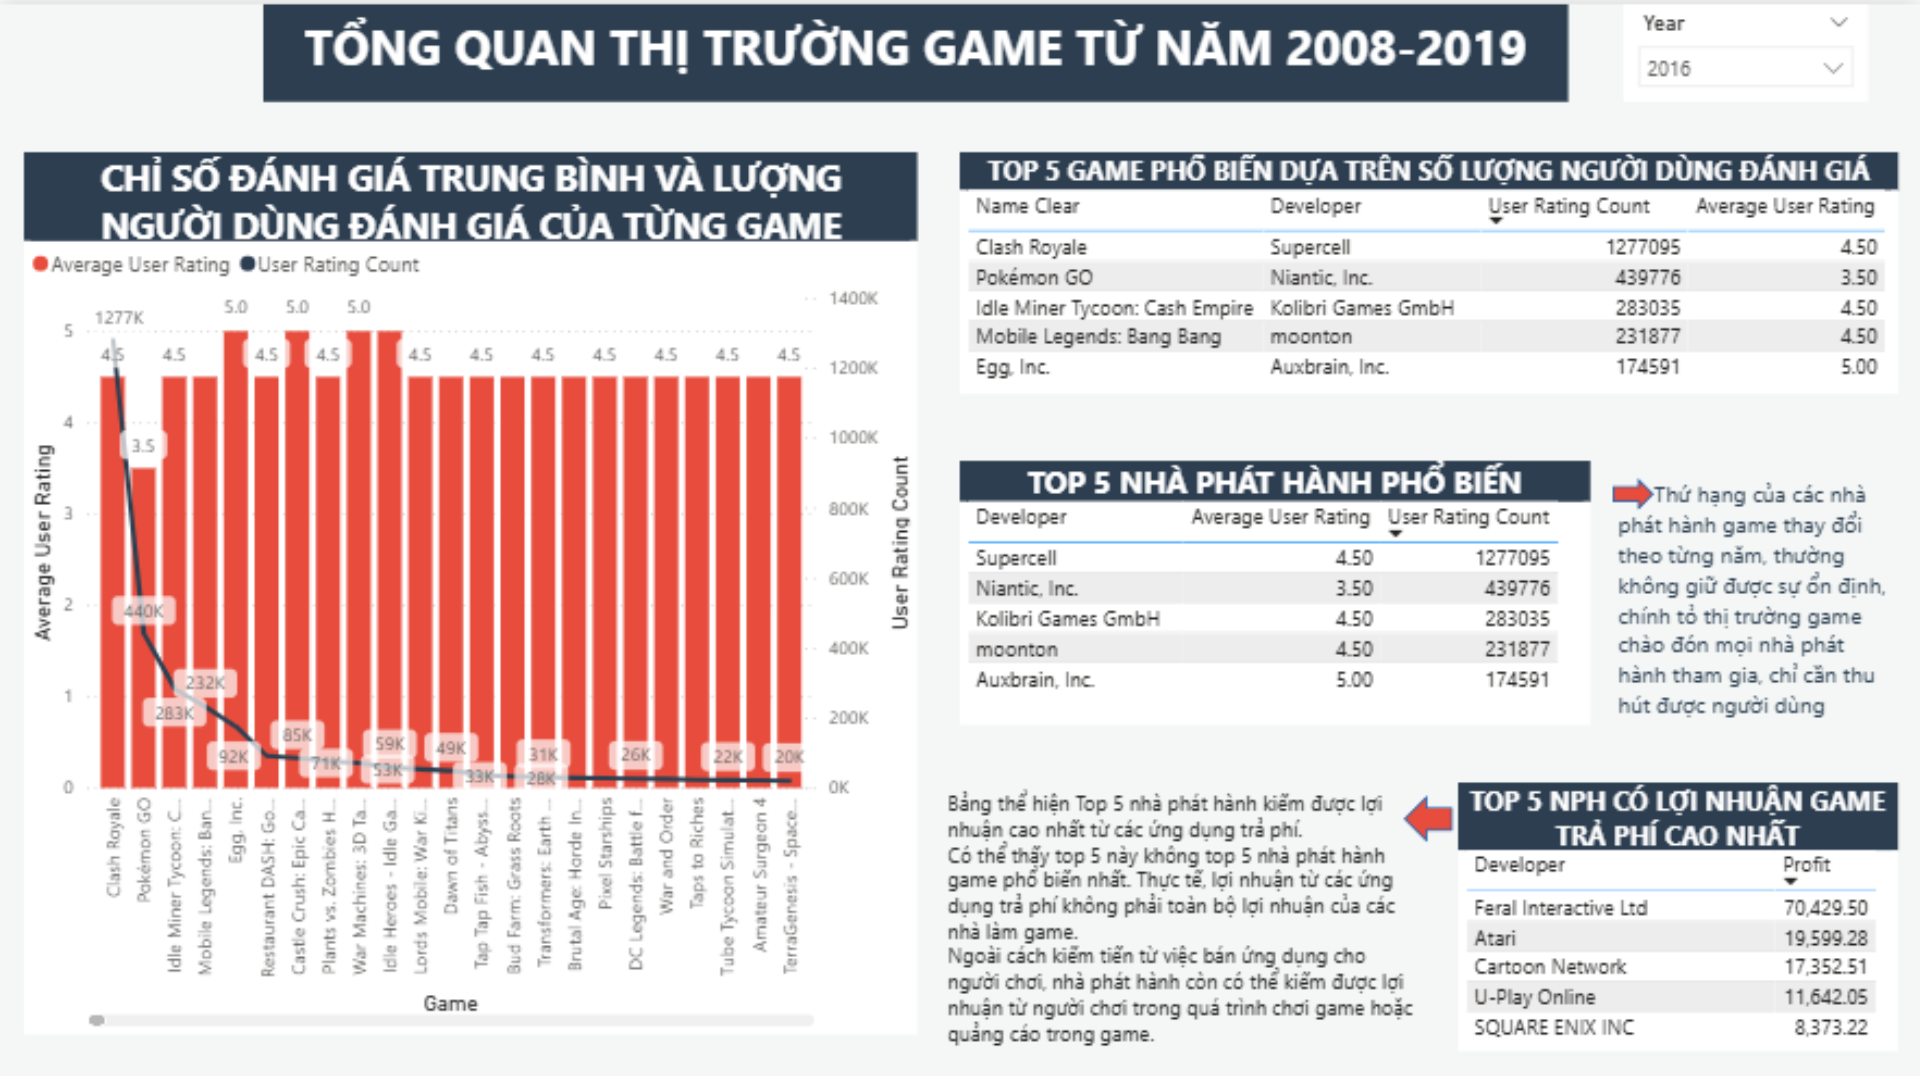

Layout of this report page (visuals, bound fields, positions):
{"tool":"powerbi","page":{"name":"Tổng quan","canvas":[1280,720],"ordinal":0},"visuals":[{"type":"slicer","title":"Year","fields":{"Values":["App Store Games.Release Date.Variation.Date Hierarchy.Year"]},"box":[1082.5,0,162.5,65],"z":0},{"type":"lineStackedColumnComboChart","title":"CHỈ SỐ ĐÁNH GIÁ TRUNG BÌNH VÀ LƯỢNG NGƯỜI DÙNG ĐÁNH GIÁ CỦA TỪNG GAME","fields":{"Y":["Avg(App Store Games.Average User Rating)"],"Y2":["Avg(App Store Games.User Rating Count)"],"Category":["App Store Games.Name Clear"]},"box":[17,98.4,595.3,588.2],"z":1000},{"type":"tableEx","title":"TOP 5 GAME PHỔ BIẾN DỰA TRÊN SỐ LƯỢNG NGƯỜI DÙNG ĐÁNH GIÁ","fields":{"Values":["App Store Games.Name Clear","App Store Games.Developer","Sum(App Store Games.User Rating Count)","App Store Games.Average User Rating"]},"box":[640,98.8,625,161.2],"z":2000},{"type":"tableEx","title":"TOP 5 NHÀ PHÁT HÀNH PHỔ BIẾN","fields":{"Values":["App Store Games.Developer","Avg(App Store Games.Average User Rating)","Sum(App Store Games.User Rating Count)"]},"box":[640.6,304.7,419.5,175.7],"z":3000},{"type":"textbox","box":[177.2,0,868.8,65.2],"z":4000},{"type":"tableEx","title":"TOP 5 NPH CÓ LỢI NHUẬN GAME TRẢ PHÍ CAO NHẤT","fields":{"Values":["App Store Games.Developer","App Store Games.Profit"]},"box":[972.5,518.8,292.5,178.8],"z":5000},{"type":"textbox","box":[1073.8,311.2,191.2,190],"z":5001},{"type":"shape","box":[1075.1,316.6,27.5,21.2],"z":5003},{"type":"textbox","box":[627.5,518.8,325,187.5],"z":5004},{"type":"shape","box":[936.2,527.5,32.5,31.2],"z":5005}]}

Visuals, with their boxes in screenshot pixels (x1, y1, x2, y2), scaled from the page's 1280x720 canvas onto the 1920x1080 screenshot:
"Year" slicer: bbox=[1624, 0, 1868, 98]
"CHỈ SỐ ĐÁNH GIÁ TRUNG BÌNH VÀ LƯỢNG NGƯỜI DÙNG ĐÁNH GIÁ CỦA TỪNG GAME" lineStackedColumnComboChart: bbox=[26, 148, 918, 1030]
"TOP 5 GAME PHỔ BIẾN DỰA TRÊN SỐ LƯỢNG NGƯỜI DÙNG ĐÁNH GIÁ" tableEx: bbox=[960, 148, 1898, 390]
"TOP 5 NHÀ PHÁT HÀNH PHỔ BIẾN" tableEx: bbox=[961, 457, 1590, 721]
textbox: bbox=[266, 0, 1569, 98]
"TOP 5 NPH CÓ LỢI NHUẬN GAME TRẢ PHÍ CAO NHẤT" tableEx: bbox=[1459, 778, 1898, 1046]
textbox: bbox=[1611, 467, 1898, 752]
shape: bbox=[1613, 475, 1654, 507]
textbox: bbox=[941, 778, 1429, 1059]
shape: bbox=[1404, 791, 1453, 838]
